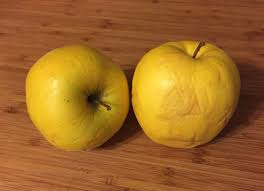apple: (133, 43, 230, 146), (24, 57, 121, 148)
